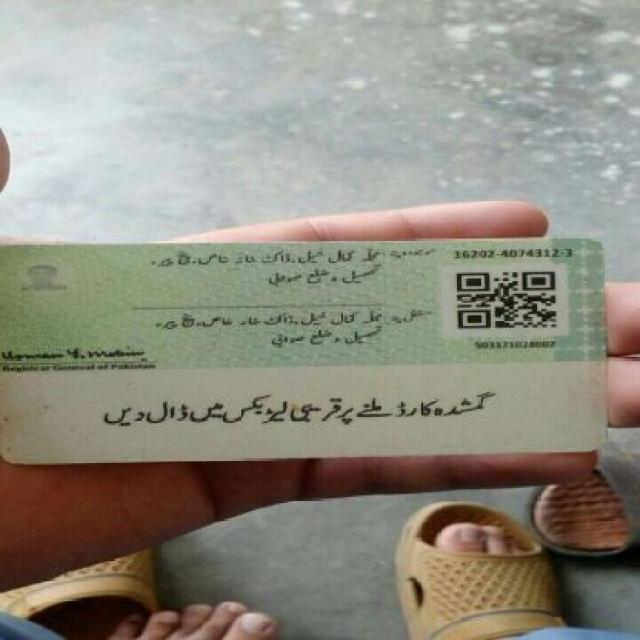Back: (3, 238, 614, 462)
